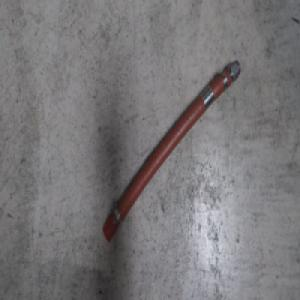Hose: (101, 58, 241, 246)
